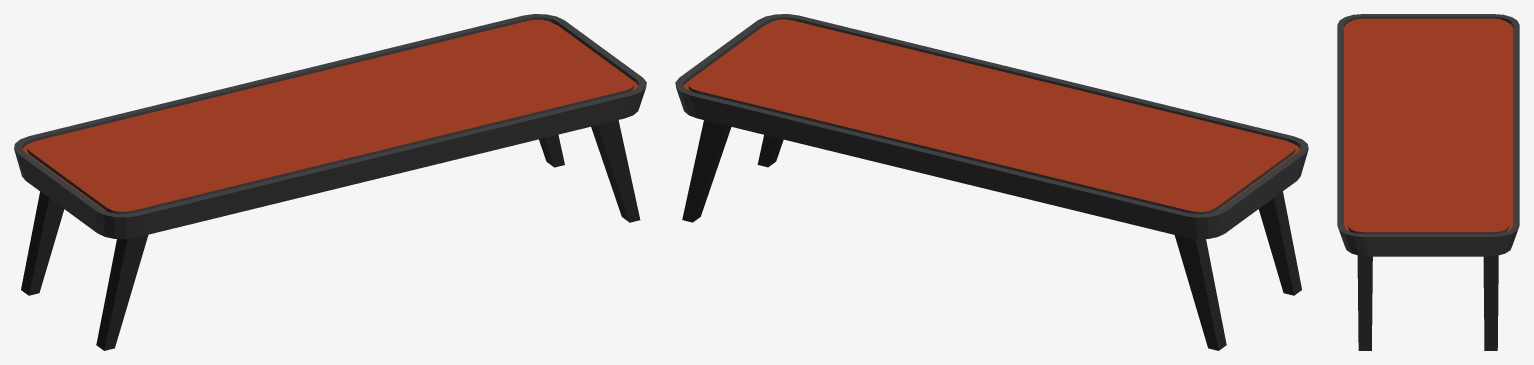
File: ctable_2.glb
The picture shows the model from 3 angles, left to right: view 1: azimuth 30°, elevation 25°; view 2: azimuth 150°, elevation 25°; view 3: azimuth 270°, elevation 25°; orthographic projection. The views are drawn at different scales.
Visible parts, largest first — view 1: CTable_2; view 2: CTable_2; view 3: CTable_2.
Boxes of the visible parts, x1=… form: CTable_2: x1=14, y1=14, x2=646, y2=350; CTable_2: x1=675, y1=14, x2=1308, y2=350; CTable_2: x1=1337, y1=14, x2=1519, y2=350.
Bounding box in the file's own units: 2.17 × 0.5286 × 0.75.
Materials: 1 (1 with a texture image).
